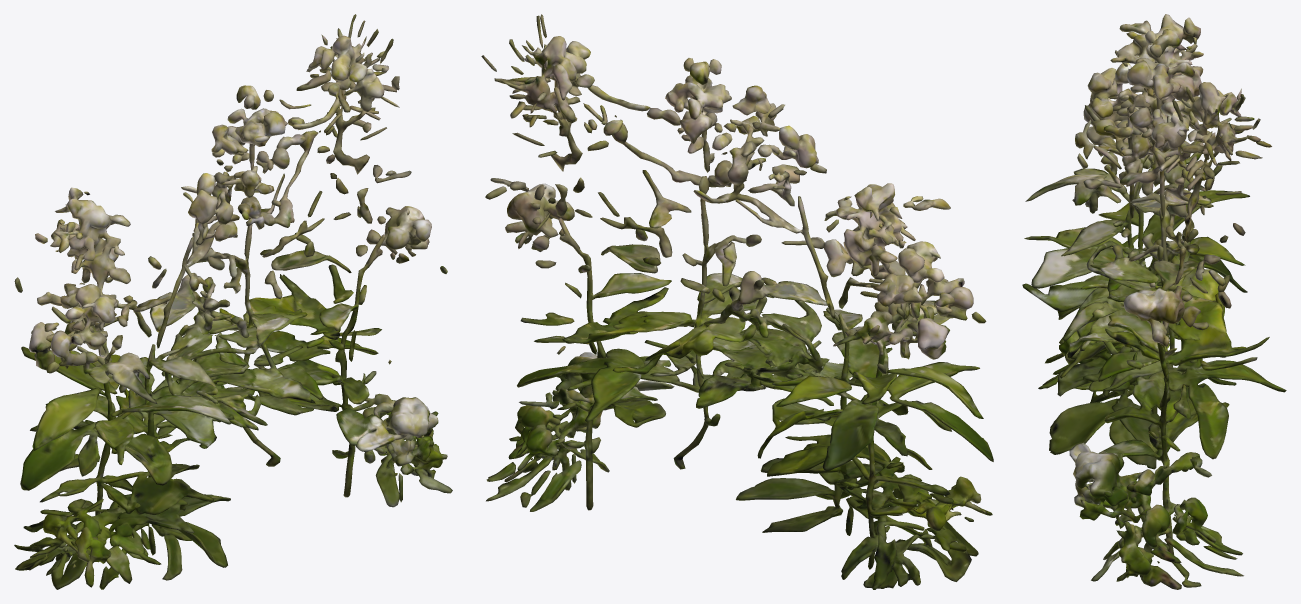
File: shrub0041_dup.gltf
3 views of the same model, side by side, from view 1: azimuth 30°, elevation 25°; view 2: azimuth 150°, elevation 25°; view 3: azimuth 270°, elevation 25° (orthographic). The views are drawn at different scales.
Parts seen in each view (by area): view 1: Mesh_0.041; view 2: Mesh_0.041; view 3: Mesh_0.041.
Part boxes in pixels (x1,y1,x2,y2): Mesh_0.041: (14,14,452,589); Mesh_0.041: (481,14,993,589); Mesh_0.041: (1022,14,1286,589).
Bounding box in the file's own units: 1.99 × 2 × 0.9676.
1 material, 1 textured.
